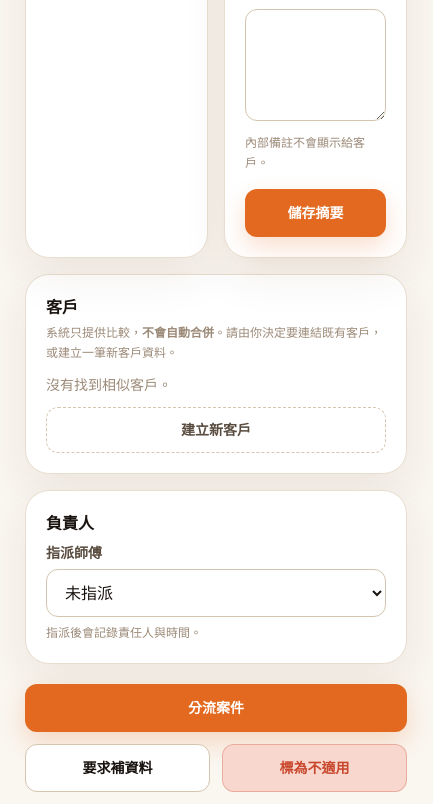
Test: PilotRequestDetail › blocks triage until a customer is linked
The image size is (433, 804).
(page scrolled)
Click the button "分流案件": (216, 708) [25,684,407,732]
(page scrolled)
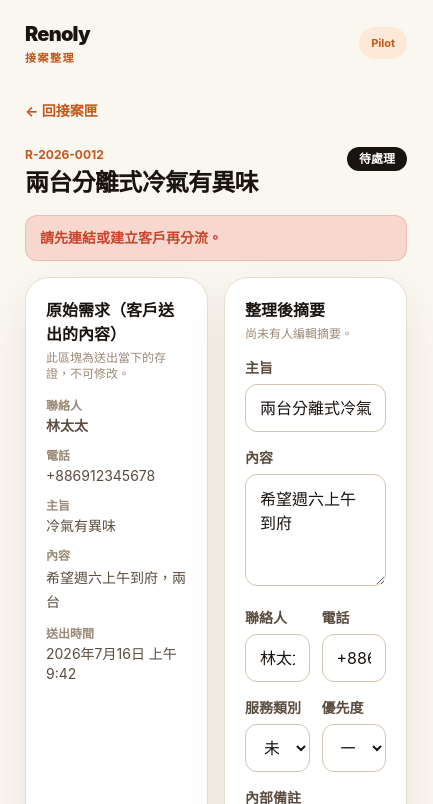
Check: the text "請先連結或建立客戶再分流。" is shown, box [25,214,407,260]
